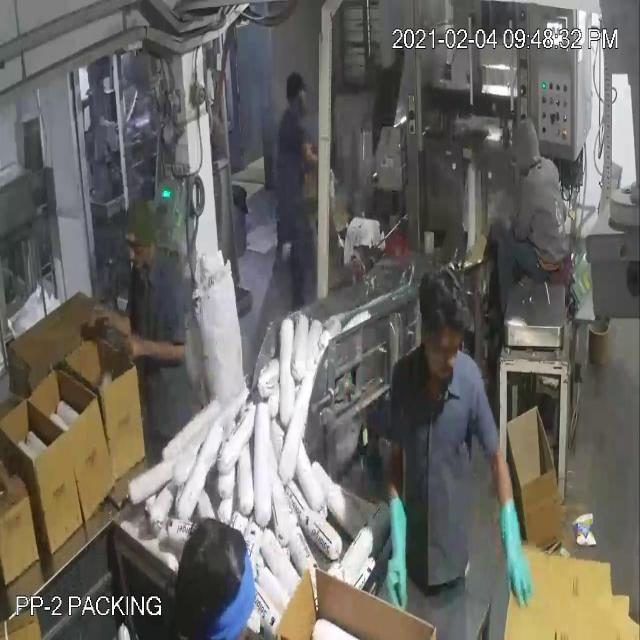No_Gloves: (22, 33, 503, 546)
